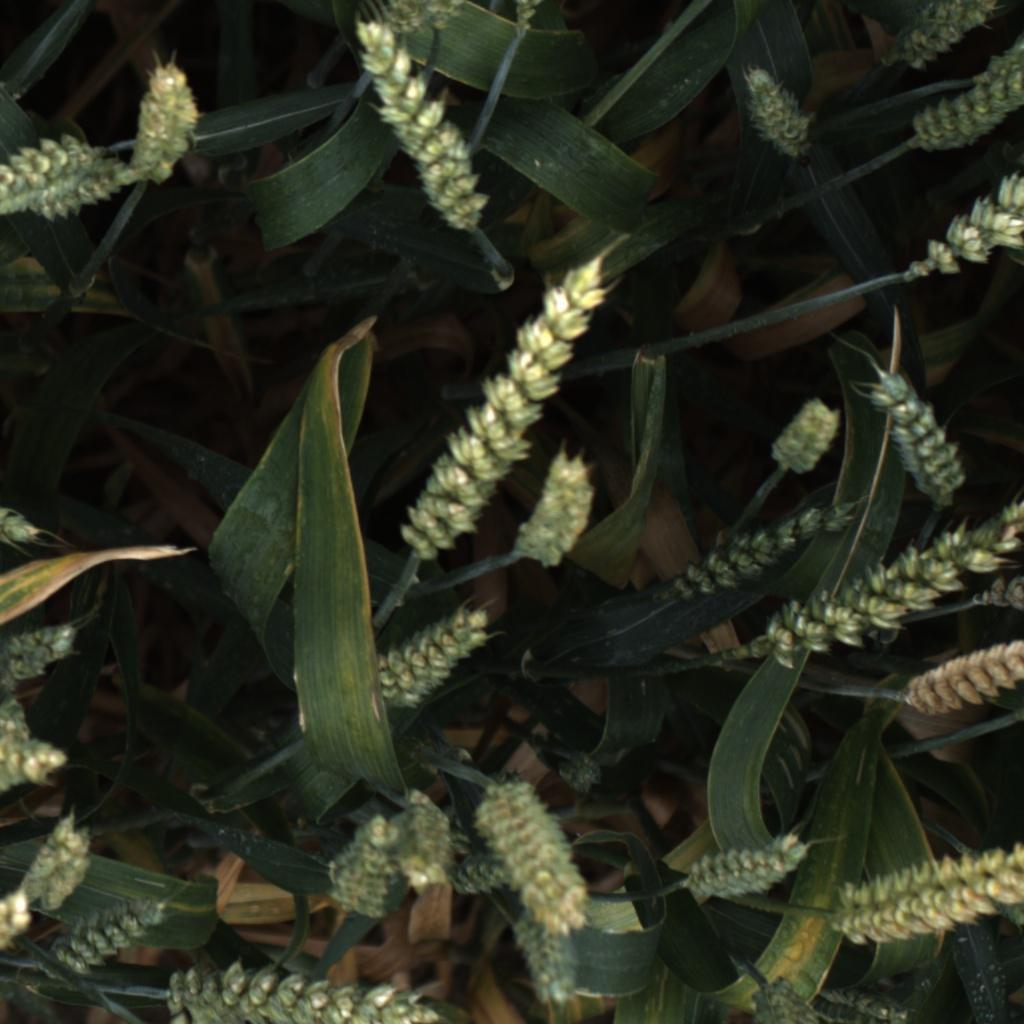0-0: (397, 257, 626, 563), (711, 495, 1024, 675), (348, 17, 492, 236), (823, 839, 1024, 945), (162, 951, 447, 1024), (473, 774, 594, 936), (660, 496, 866, 591), (865, 360, 992, 507), (902, 172, 1024, 286), (370, 603, 495, 708), (874, 639, 1024, 719), (513, 452, 607, 572), (46, 894, 171, 983), (903, 70, 1022, 157), (682, 826, 808, 907), (134, 51, 202, 198), (9, 808, 98, 919), (320, 806, 400, 921), (0, 133, 109, 215), (750, 385, 840, 481), (877, 1, 995, 70), (0, 696, 83, 793), (507, 909, 578, 1022), (447, 765, 530, 858), (738, 65, 815, 162), (41, 157, 141, 225), (389, 789, 455, 892), (0, 622, 87, 693), (806, 978, 919, 1024), (738, 972, 827, 1024), (447, 854, 521, 902), (0, 882, 39, 966), (975, 32, 1024, 84), (974, 572, 1024, 619), (556, 749, 606, 795), (0, 504, 46, 551), (425, 0, 474, 31), (385, 0, 423, 37)
